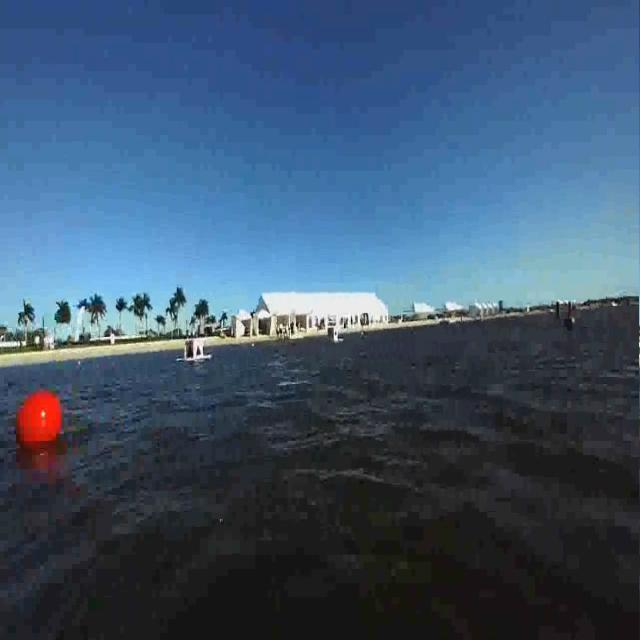blue-buoy: (566, 314, 578, 336)
red-buoy: (17, 392, 64, 448)
